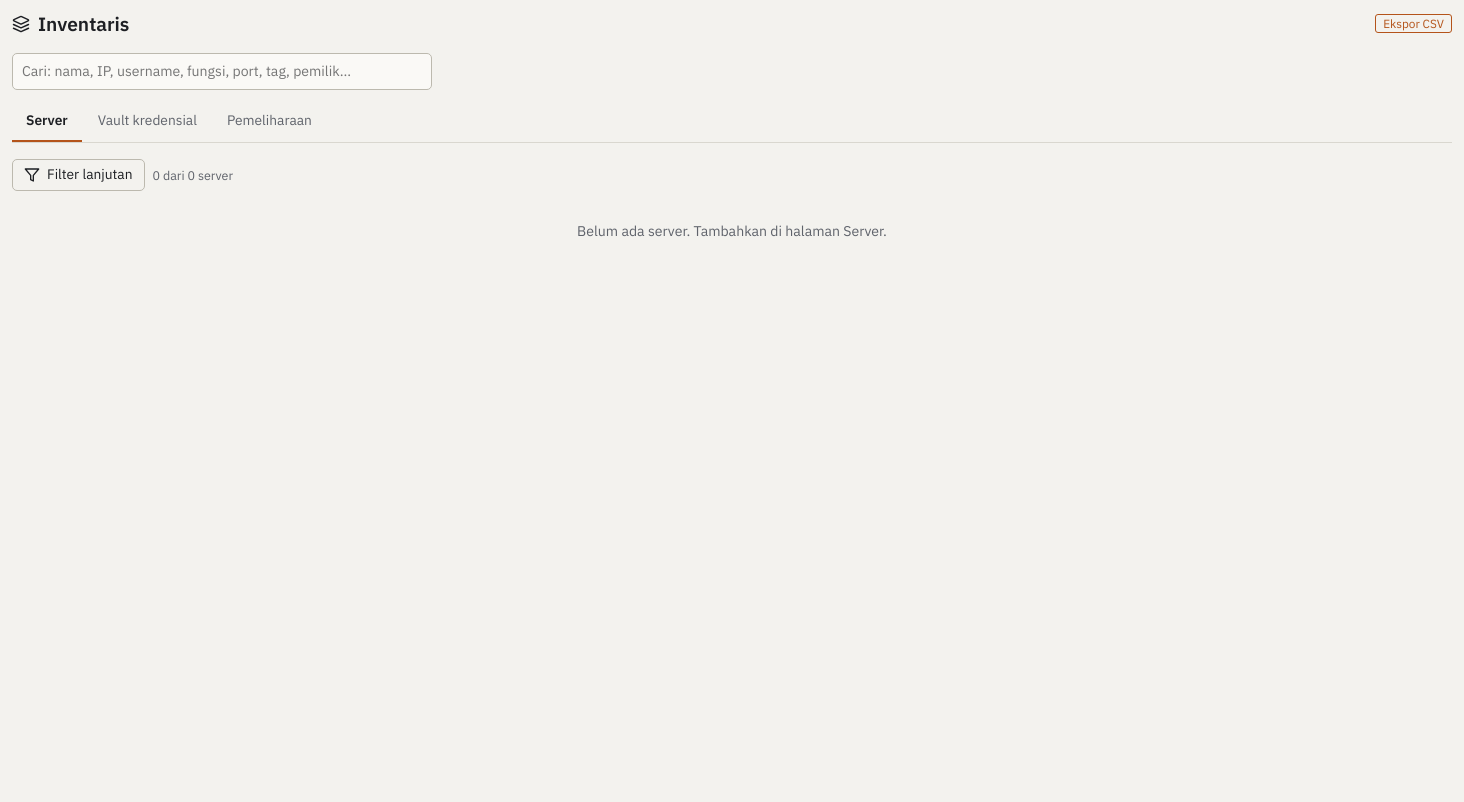
Test: InventoryPage: tabel Vault dan Pemeliharaan › Vault: 12 kredensial dibagi halaman, filter status mempersempit
Click the tab "Vault kredensial" at (147, 122), box [84,102,211,142]
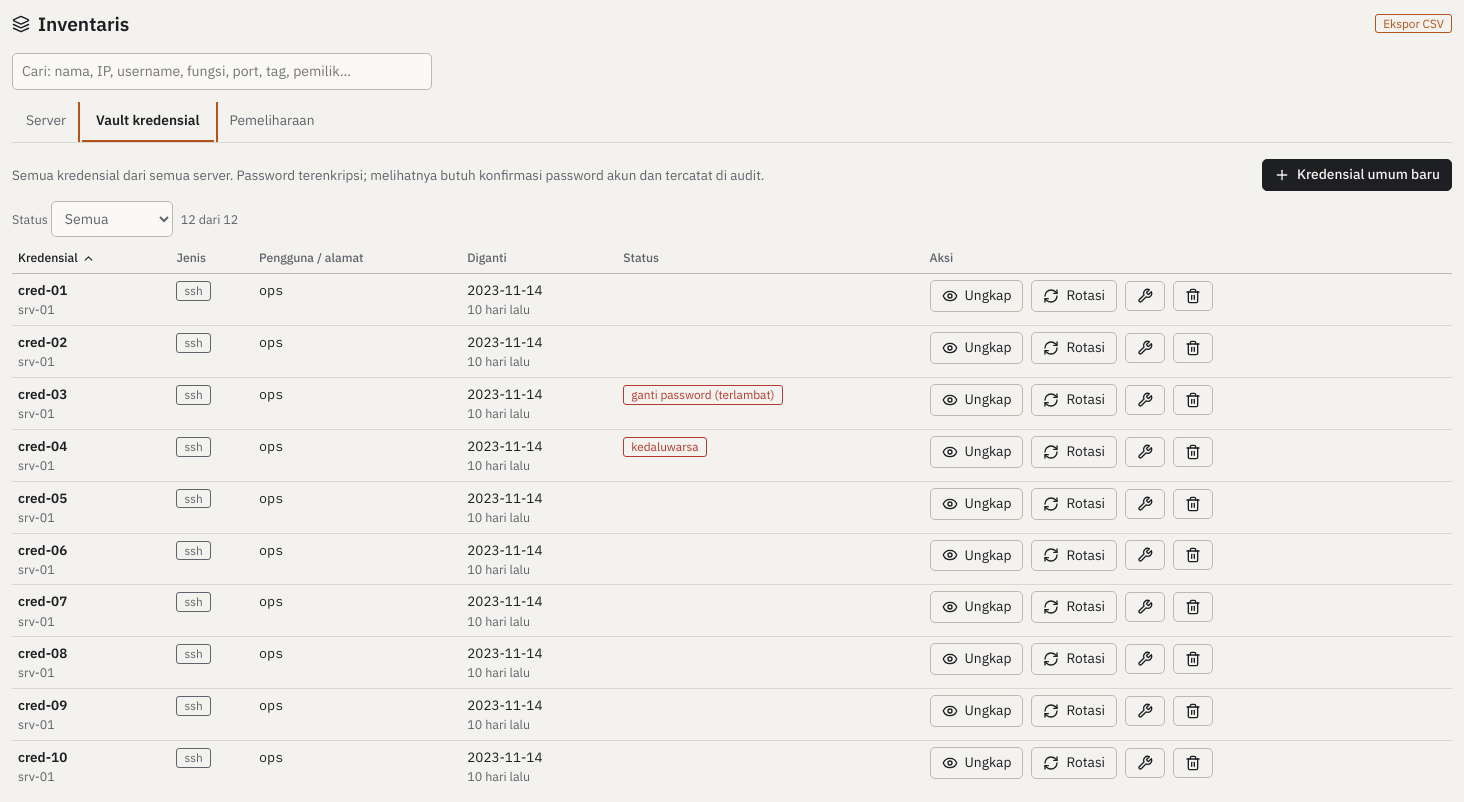
Select "Perlu diganti" in the dropdown labelled "Status" at (112, 219), box [51,201,173,237]
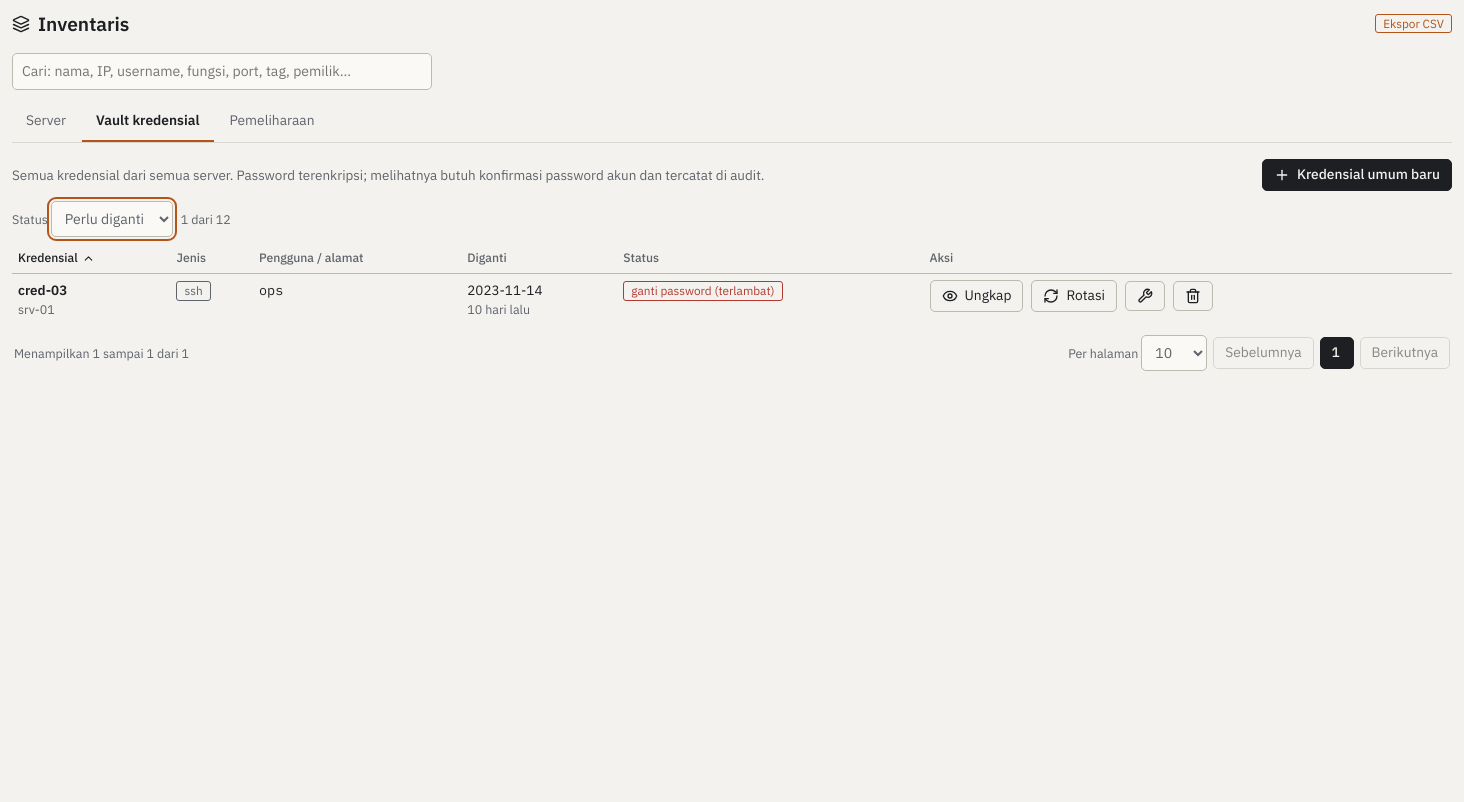
Expected: the row that starts with "cred-03" is shown, [18,281,67,299]
Expected: the text "1 dari 12" is shown, [181,210,231,228]
Select "Kedaluwarsa" in the dropdown labelled "Status" at (112, 219), box [51,201,173,237]
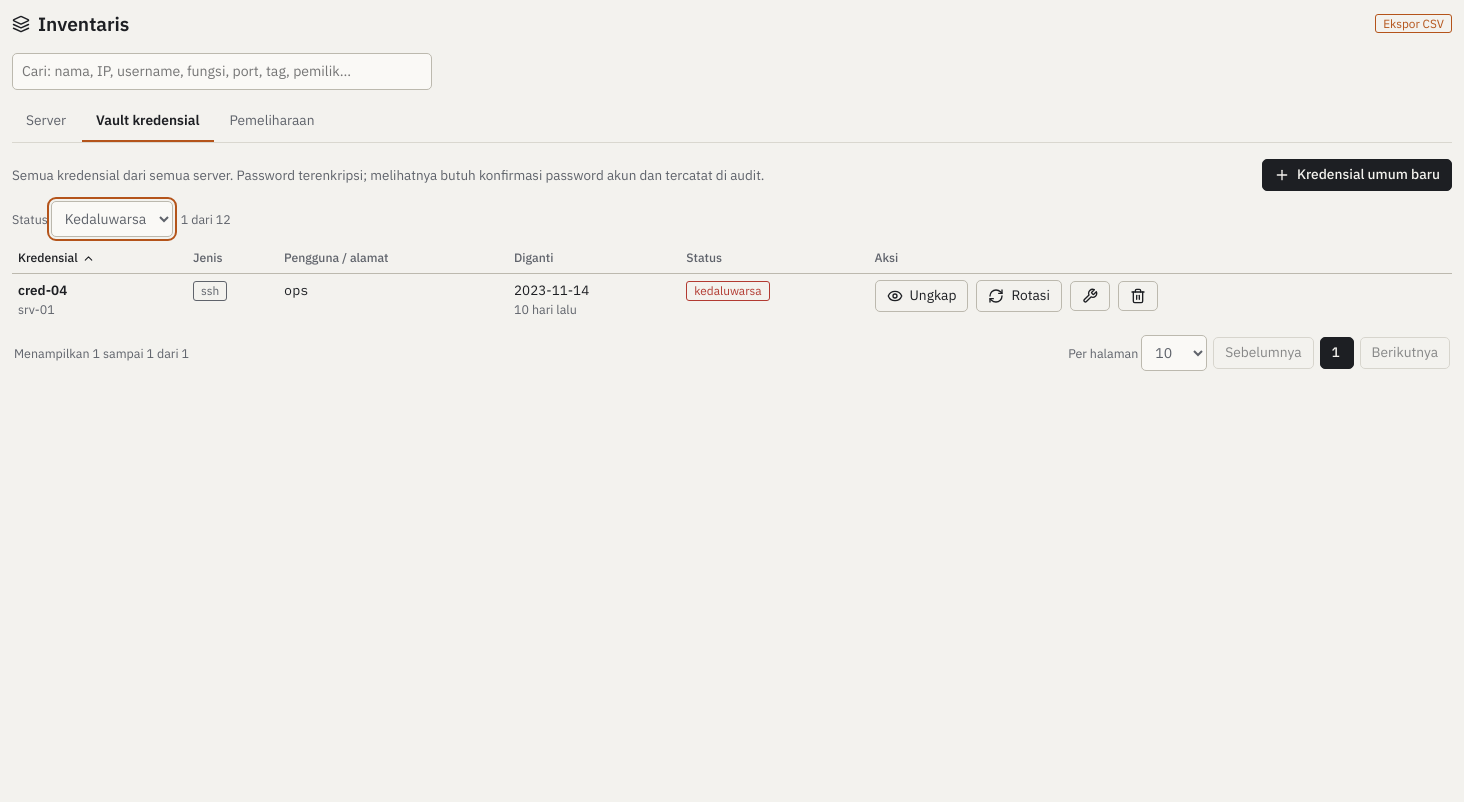
Expected: the row that starts with "cred-04" is shown, [18,281,67,299]
